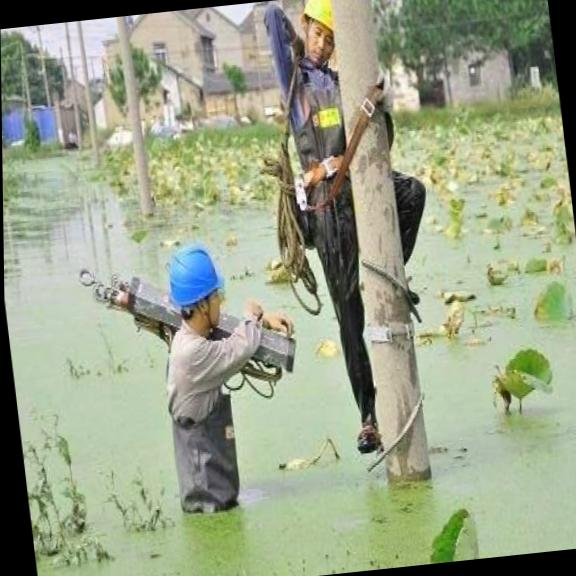no_safety_vest: (154, 327, 260, 524), (278, 49, 369, 236)
